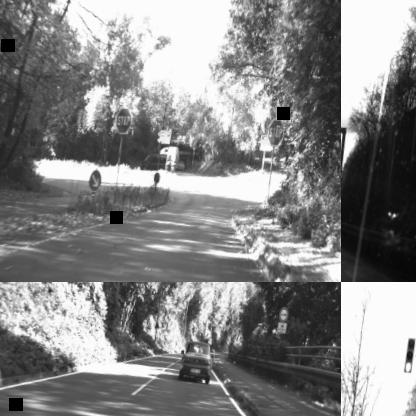STOP: (265, 117, 285, 147), (114, 106, 133, 134)
keep right: (87, 168, 102, 192)
no overtaking (trucks): (277, 306, 289, 323)
